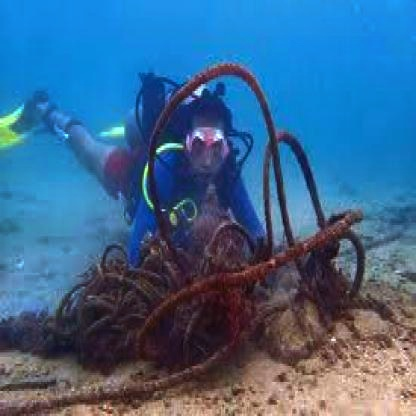net: (135, 64, 366, 364)
